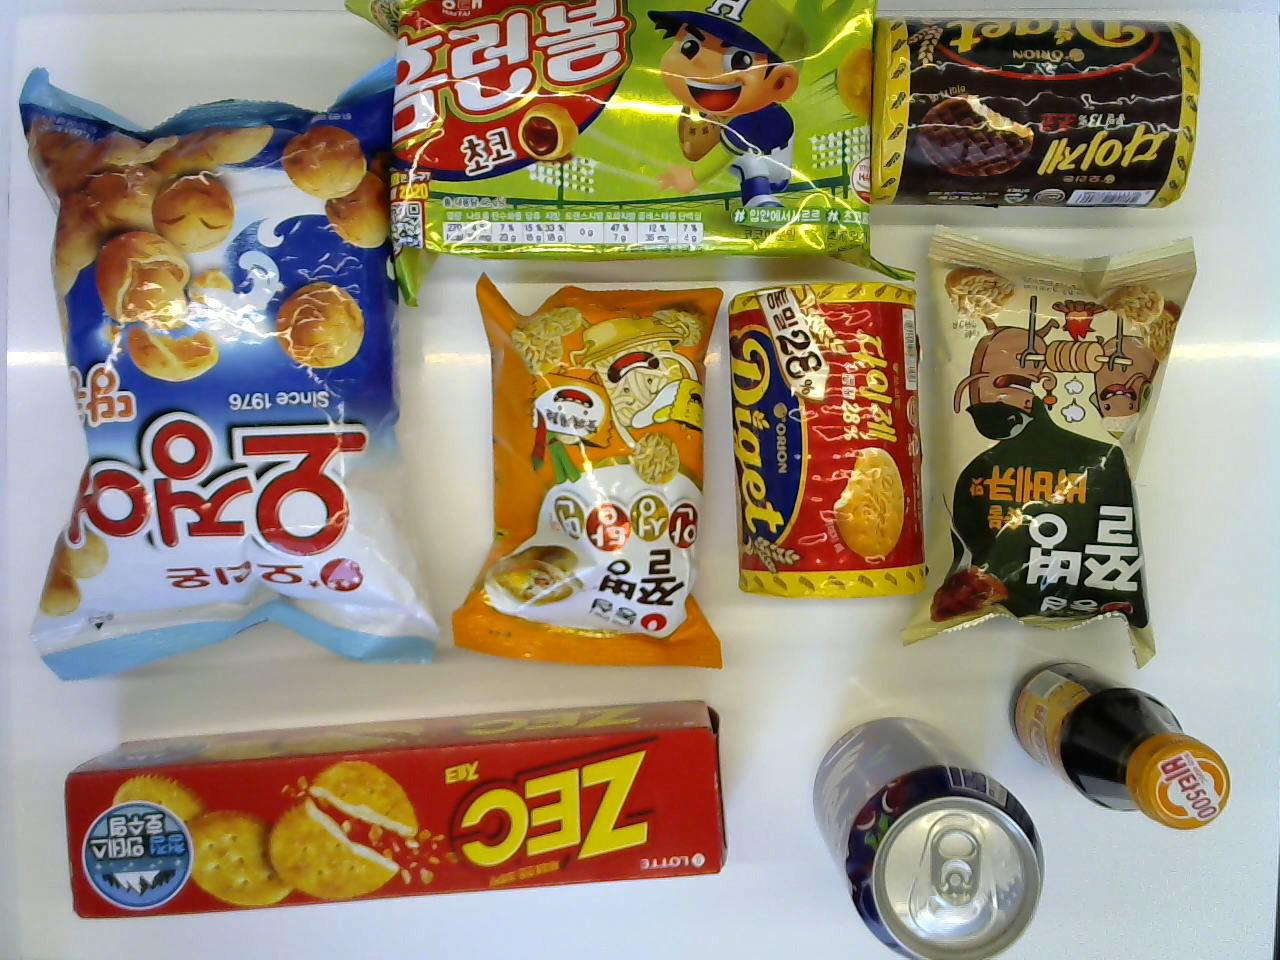diget_choco: (864, 14, 1206, 211)
diget_ori: (730, 280, 929, 593)
homerunball: (337, 0, 922, 305)
jjolbyung_noodle: (436, 271, 729, 674)
jjolbyung_ori: (899, 223, 1195, 670)
squid_peanut: (18, 57, 454, 684)
vita500: (1011, 651, 1233, 837)
welchs: (809, 710, 1043, 956)
zec: (60, 694, 728, 921)
